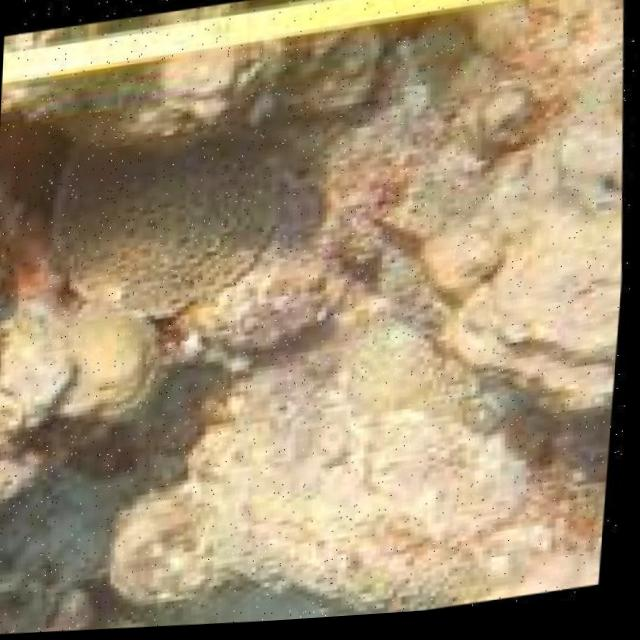Bleached Coral: (36, 89, 346, 363)
